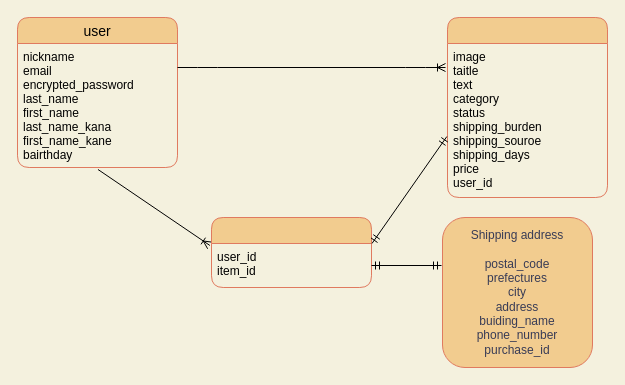
Image size: 625x385. Some labels were removed from this diagram. The shapes that lost their labels are listed below. From the top down, each one's box as (x1, y1, x2, y2) in pixels, then its label:
(446, 16, 608, 198): item
(210, 216, 372, 288): Purchase
